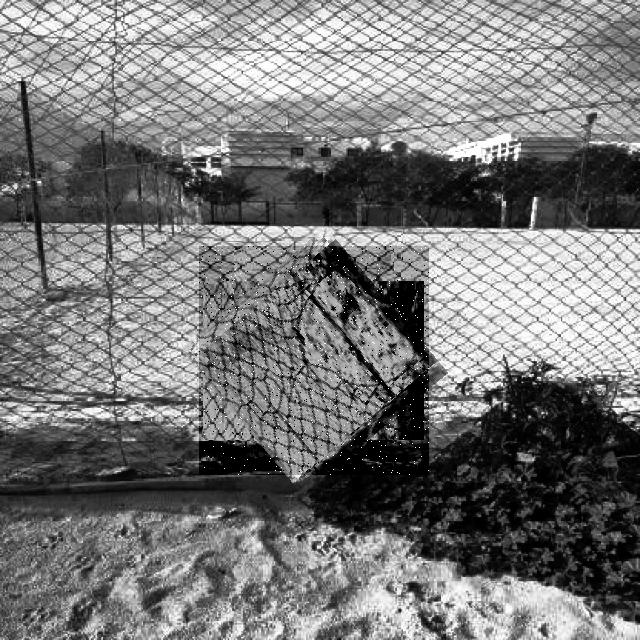anomaly-fence: (199, 246, 429, 475)
